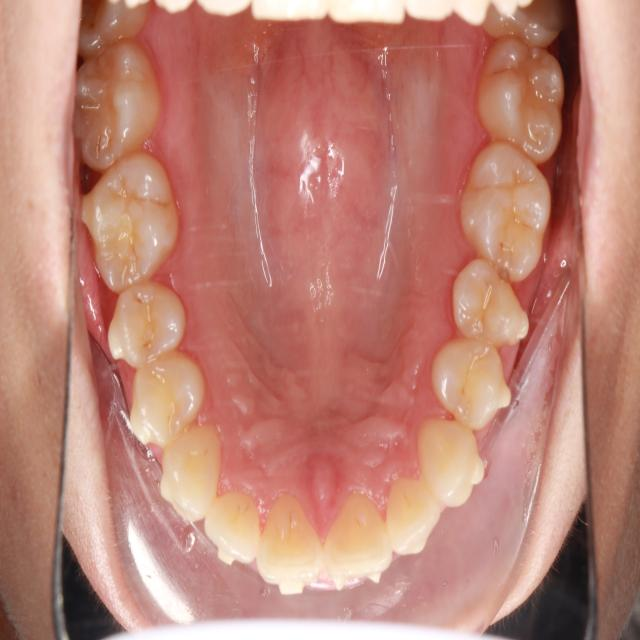tooth: (74, 144, 191, 308), (458, 136, 558, 294), (72, 35, 176, 181), (472, 30, 577, 167), (117, 336, 218, 458), (103, 273, 205, 376), (317, 483, 404, 602), (446, 245, 540, 355), (406, 401, 492, 519), (431, 324, 518, 429), (251, 484, 327, 601), (156, 419, 232, 534), (376, 467, 450, 564), (203, 494, 270, 583), (74, 1, 158, 67), (480, 4, 569, 55)
